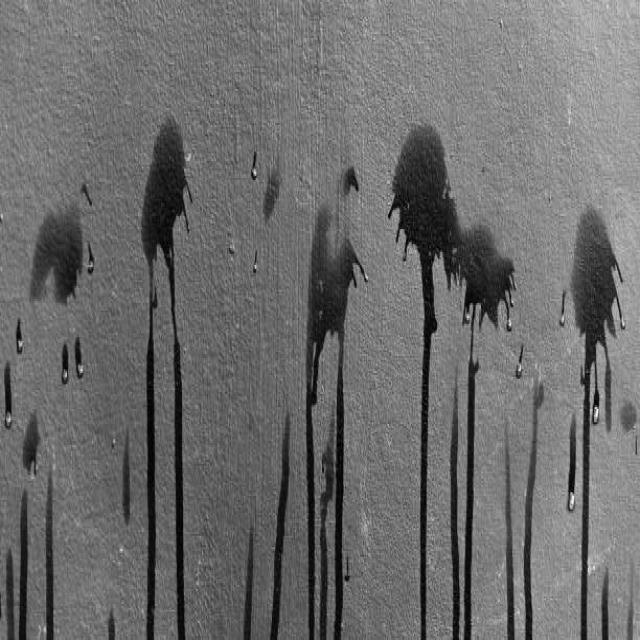paint drips: (555, 269, 634, 640), (383, 168, 439, 640), (140, 221, 186, 640), (297, 312, 349, 640), (446, 262, 489, 640), (498, 340, 549, 640), (6, 423, 44, 640), (272, 404, 295, 640), (45, 449, 60, 640), (233, 522, 257, 640), (115, 418, 137, 545), (496, 264, 522, 347), (182, 167, 200, 247), (346, 246, 372, 297), (2, 354, 13, 450), (72, 327, 86, 396), (246, 248, 263, 300), (57, 336, 71, 396), (11, 312, 27, 360), (248, 143, 264, 188), (102, 607, 120, 640)
